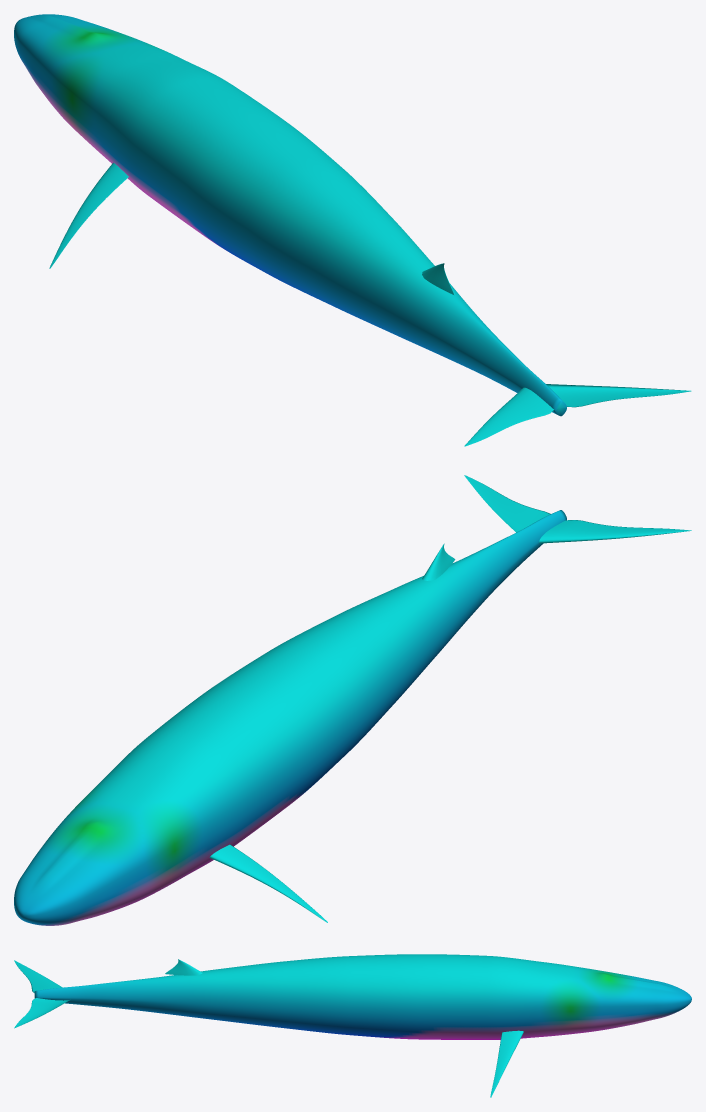
File: whale.glb
3 renders of one model, top to bottom at view 1: azimuth 30°, elevation 25°; view 2: azimuth 150°, elevation 25°; view 3: azimuth 270°, elevation 25°, orthographic. The views are drawn at different scales.
Parts seen in each view (by area): view 1: whale; view 2: whale; view 3: whale.
Boxes of the visible parts, x1,y1,x2,y2 form: whale: [14, 14, 691, 446]; whale: [14, 475, 691, 925]; whale: [14, 954, 691, 1097].
Size of the model in its own units: 12.73 by 6.94 by 43.85.
